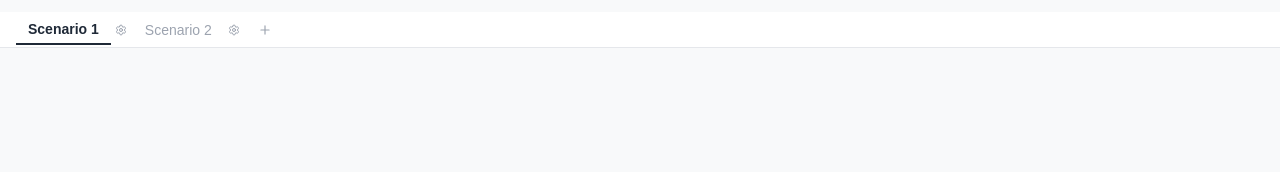
ScenarioTabBar › clicking [+] shows blank/clone prompt
Click the button named "New scenario" at point(265, 30), box x1=250 y1=18 x2=280 y2=40
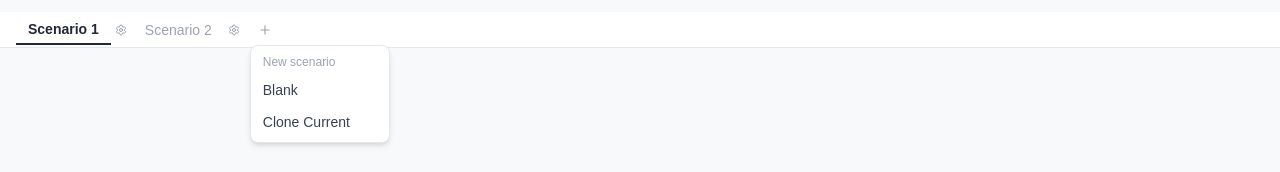
Expected: the button "Blank" is shown, x1=251 y1=74 x2=389 y2=106
Expected: the button "Clone Current" is shown, x1=251 y1=106 x2=389 y2=138
